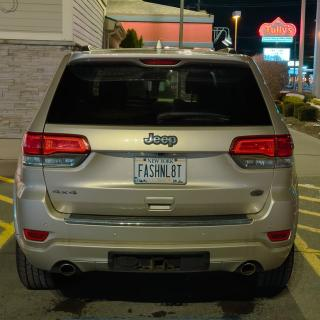license: (134, 157, 189, 186)
